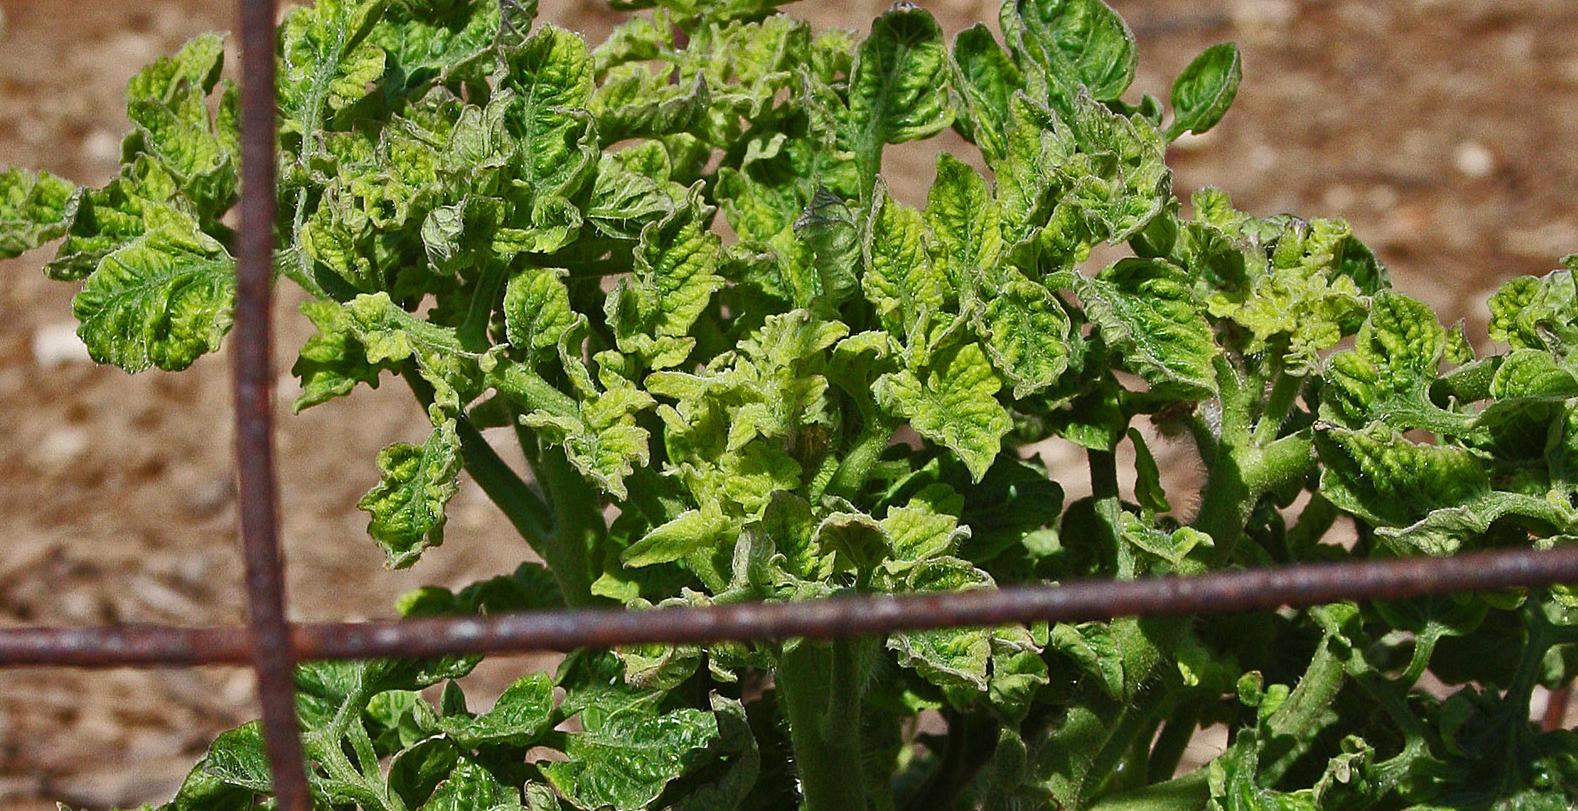Tomato leaf yellow virus: (64, 226, 249, 410), (1311, 417, 1543, 552), (508, 687, 730, 811), (1064, 258, 1239, 413), (811, 0, 971, 161), (607, 181, 721, 401), (967, 0, 1160, 123), (104, 54, 232, 226), (485, 24, 598, 214), (953, 242, 1081, 408), (881, 354, 1016, 494), (355, 413, 471, 576), (723, 309, 843, 464), (285, 0, 411, 142), (291, 287, 428, 408), (850, 196, 947, 362), (924, 127, 1002, 333), (811, 490, 963, 582), (375, 728, 534, 811), (1339, 276, 1460, 377), (1211, 729, 1343, 811), (475, 267, 577, 368), (0, 155, 81, 276), (605, 508, 735, 578), (1475, 344, 1578, 414)
